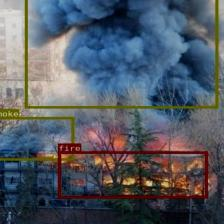fire: (58, 151, 207, 198)
smoke: (24, 0, 218, 108), (0, 116, 73, 160)
